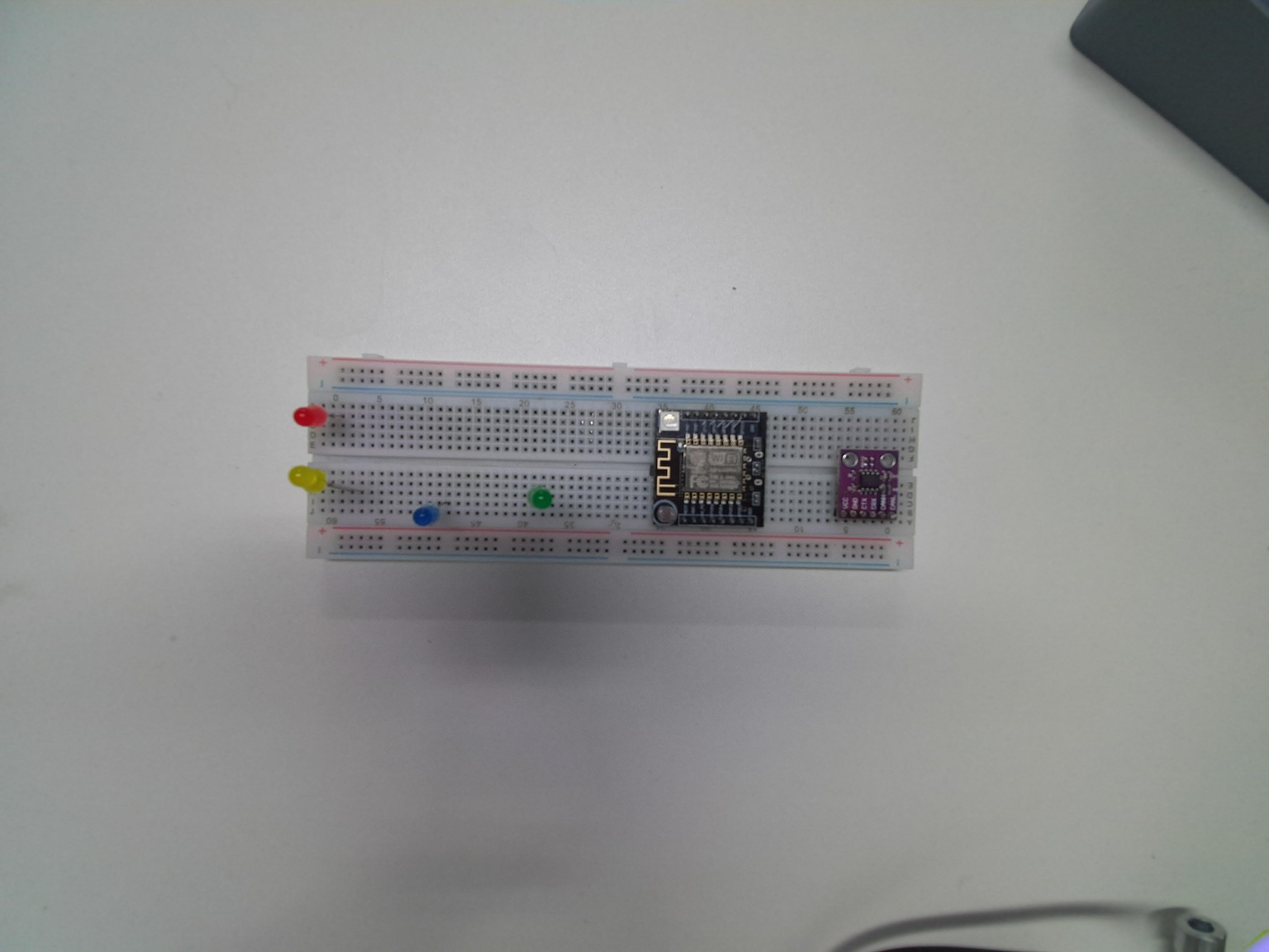base: (290, 359, 923, 575)
blue-led: (413, 504, 438, 526)
esp: (650, 408, 768, 529)
green-led: (530, 477, 559, 516)
purple-board: (836, 447, 900, 523)
red-led: (292, 405, 326, 428)
yellow-led: (290, 465, 326, 496)
